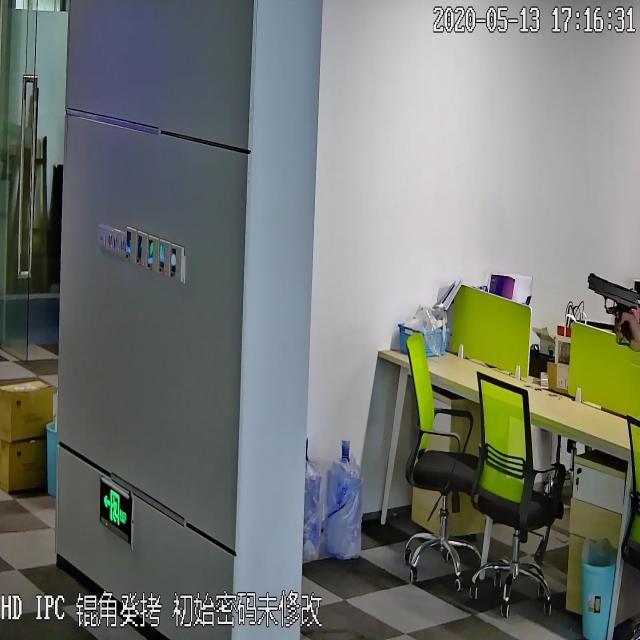gun: (586, 270, 640, 351)
